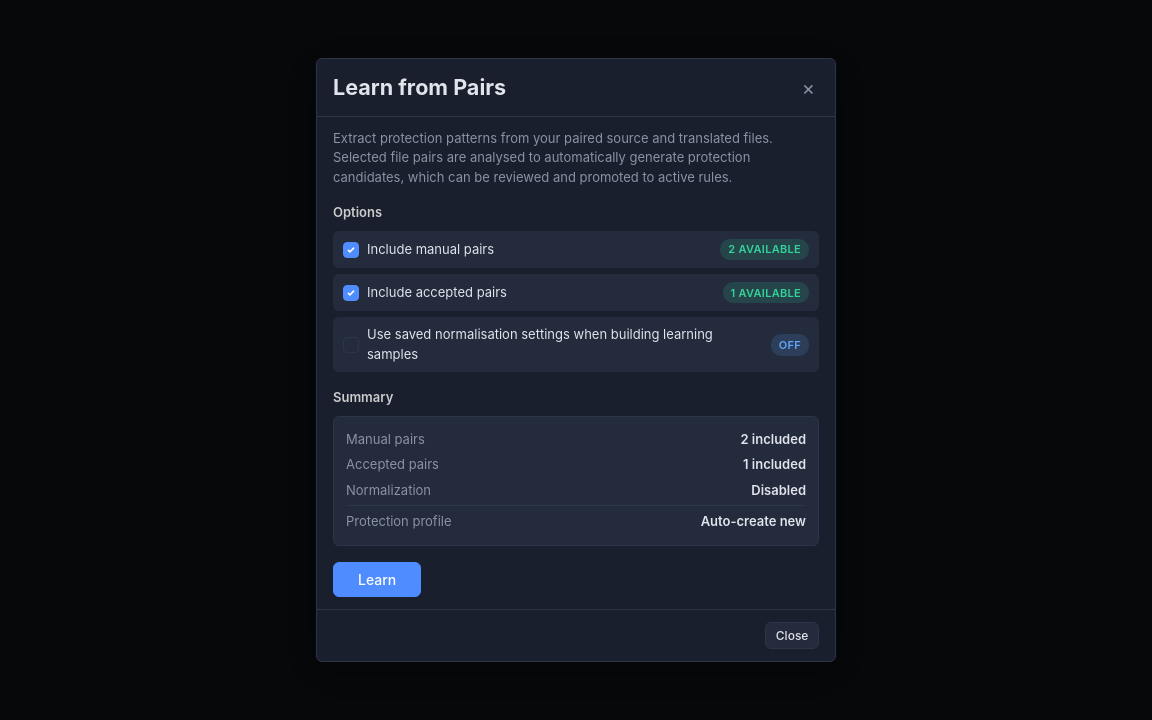
Test: LearnDialog › shows normalized_pairs_used and raw_pairs_used labels in result summary
The image size is (1152, 720).
What coordinates should you click on to do the following:
click the button "Learn"
I would click on:
 (377, 579)
Its box is [333,562,421,597].
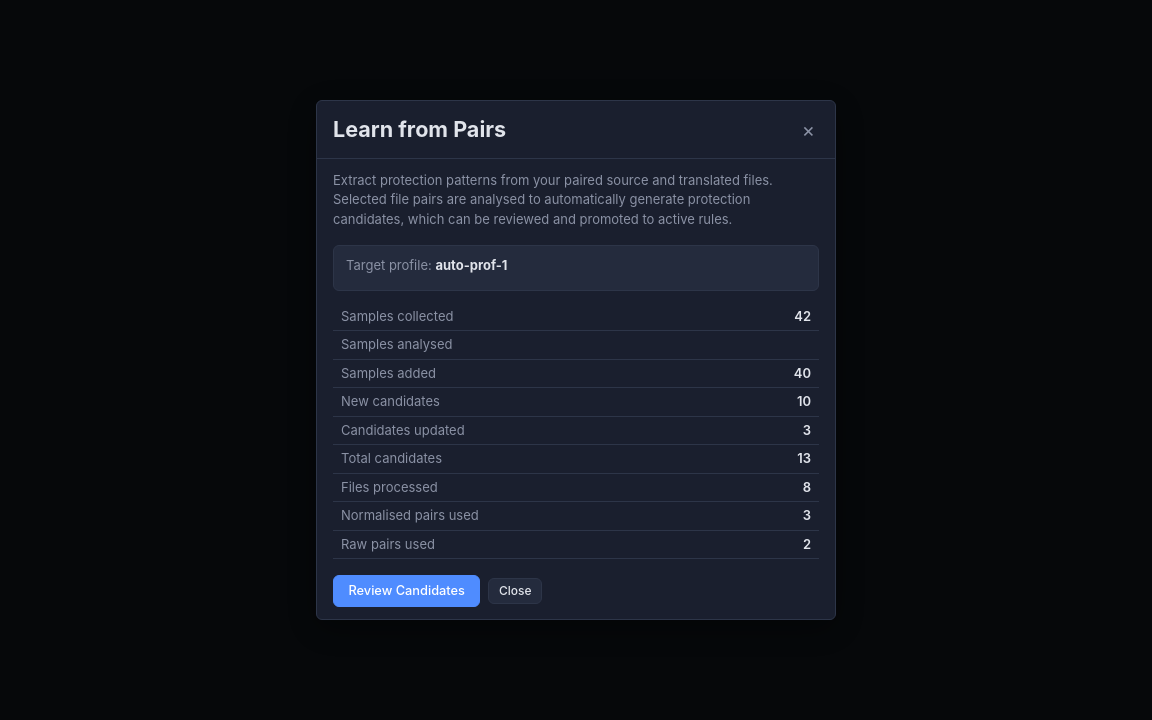
Result: the text "Normalised pairs used" is shown at [333,502,733,530]
Result: the text "Raw pairs used" is shown at [333,530,733,559]
